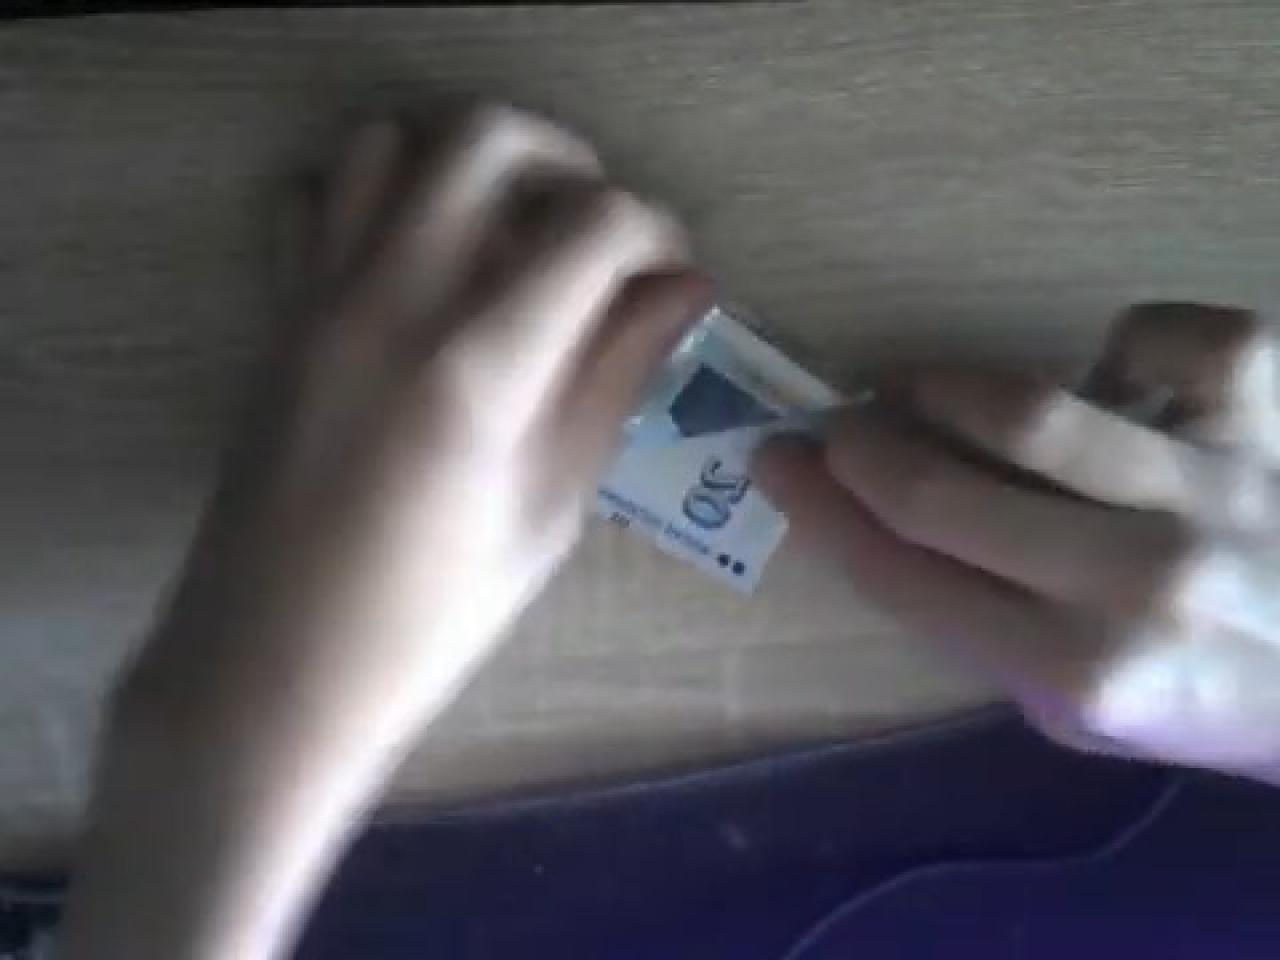20leva: (585, 298, 867, 600)
